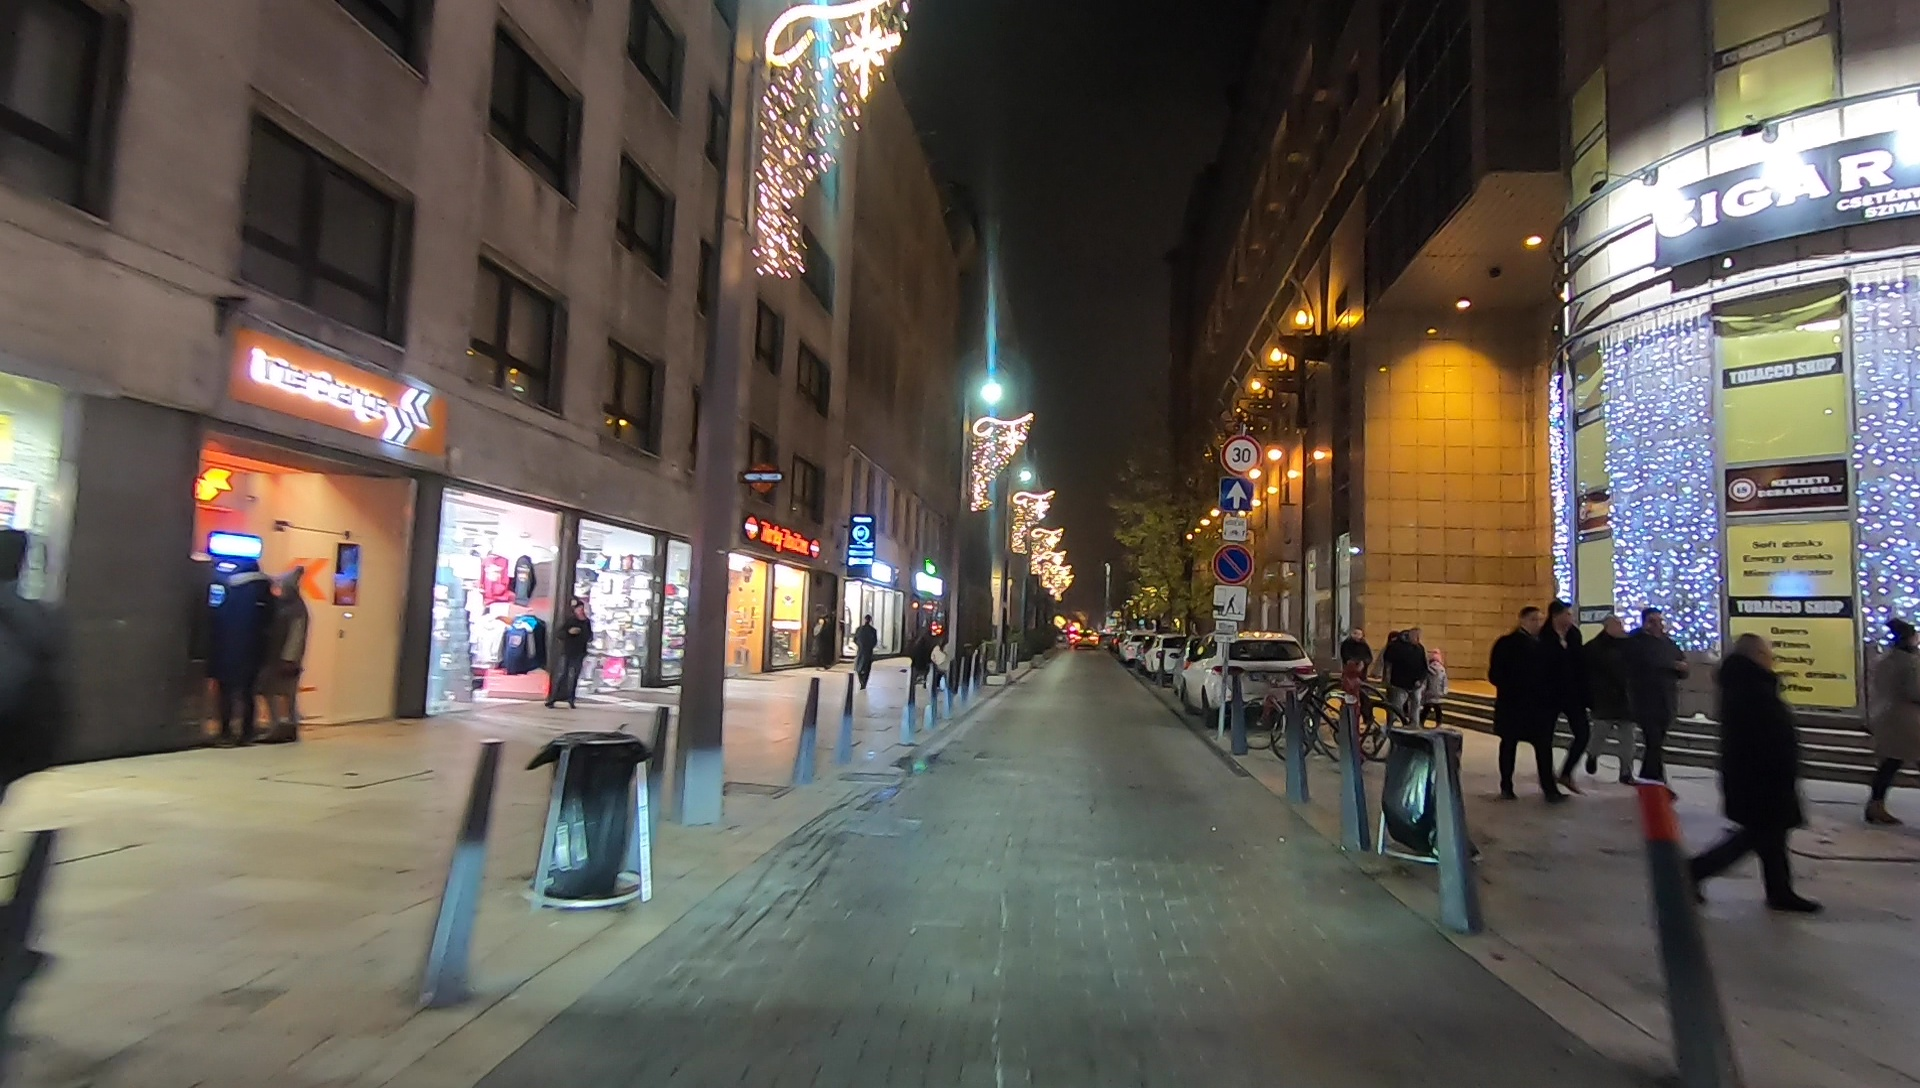person: (1686, 636, 1814, 923), (1860, 624, 1920, 818), (1491, 602, 1549, 799), (210, 563, 262, 743), (1630, 608, 1678, 791), (265, 573, 310, 743), (1545, 606, 1586, 786), (1588, 615, 1630, 782), (556, 604, 589, 708), (852, 615, 876, 682)
